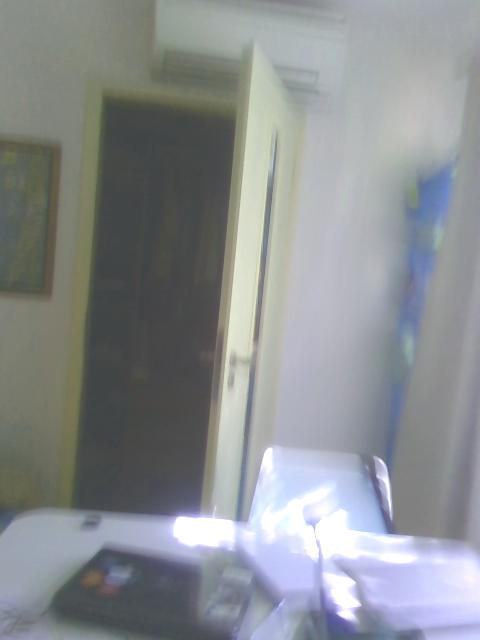semi_door: (58, 37, 302, 631)
